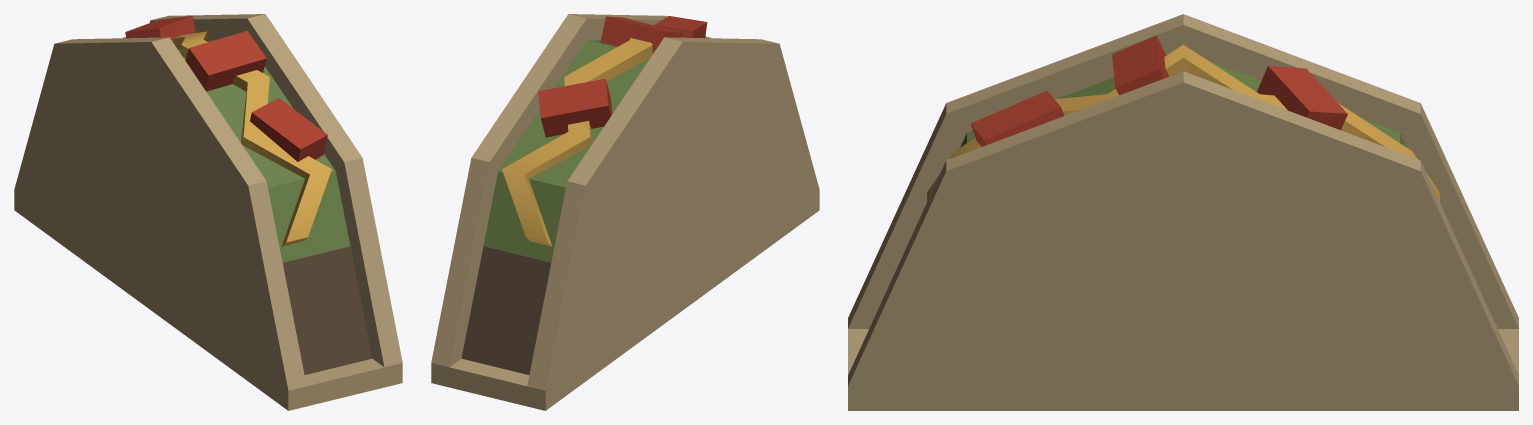
File: SM_Prop_Sign_Taco_01.fbx
3 renders of one model, left to right at view 1: azimuth 30°, elevation 25°; view 2: azimuth 150°, elevation 25°; view 3: azimuth 270°, elevation 25°, orthographic. The views are drawn at different scales.
Parts seen in each view (by area): view 1: SM_Prop_Sign_Taco_01; view 2: SM_Prop_Sign_Taco_01; view 3: SM_Prop_Sign_Taco_01.
Boxes of the visible parts, bbox=[...] form: SM_Prop_Sign_Taco_01: bbox=[14, 14, 402, 410]; SM_Prop_Sign_Taco_01: bbox=[431, 14, 819, 410]; SM_Prop_Sign_Taco_01: bbox=[848, 14, 1518, 410].
Bounding box in the file's own units: 20.22 × 45.41 × 84.01.
